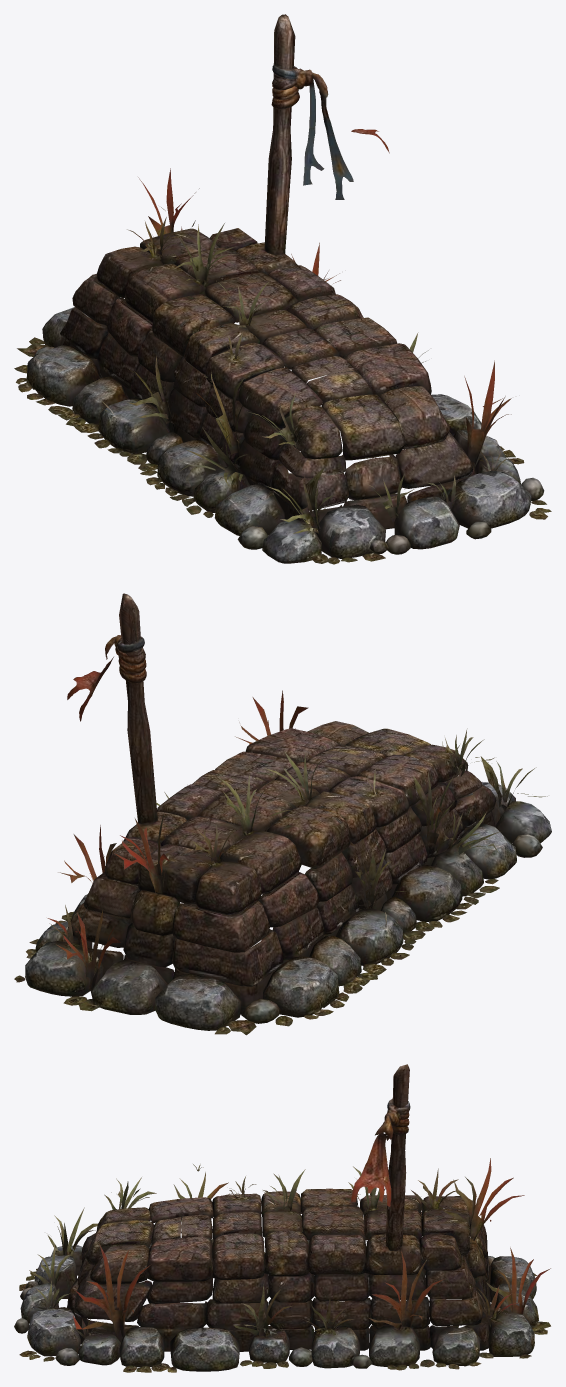
File: act1-a21-6-bog-grave.glb
The picture shows the model from 3 angles, top to bottom: view 1: azimuth 30°, elevation 25°; view 2: azimuth 150°, elevation 25°; view 3: azimuth 270°, elevation 25°; orthographic projection. The views are drawn at different scales.
Parts seen in each view (by area): view 1: act1-a21-6-bog-grave; view 2: act1-a21-6-bog-grave; view 3: act1-a21-6-bog-grave.
Boxes of the visible parts, x1,y1,x2,y2 form: act1-a21-6-bog-grave: [14, 14, 551, 564]; act1-a21-6-bog-grave: [14, 593, 551, 1035]; act1-a21-6-bog-grave: [14, 1064, 550, 1372].
Bounding box in the file's own units: 1.34 × 1.4 × 2.4.
1 material, 1 textured.
